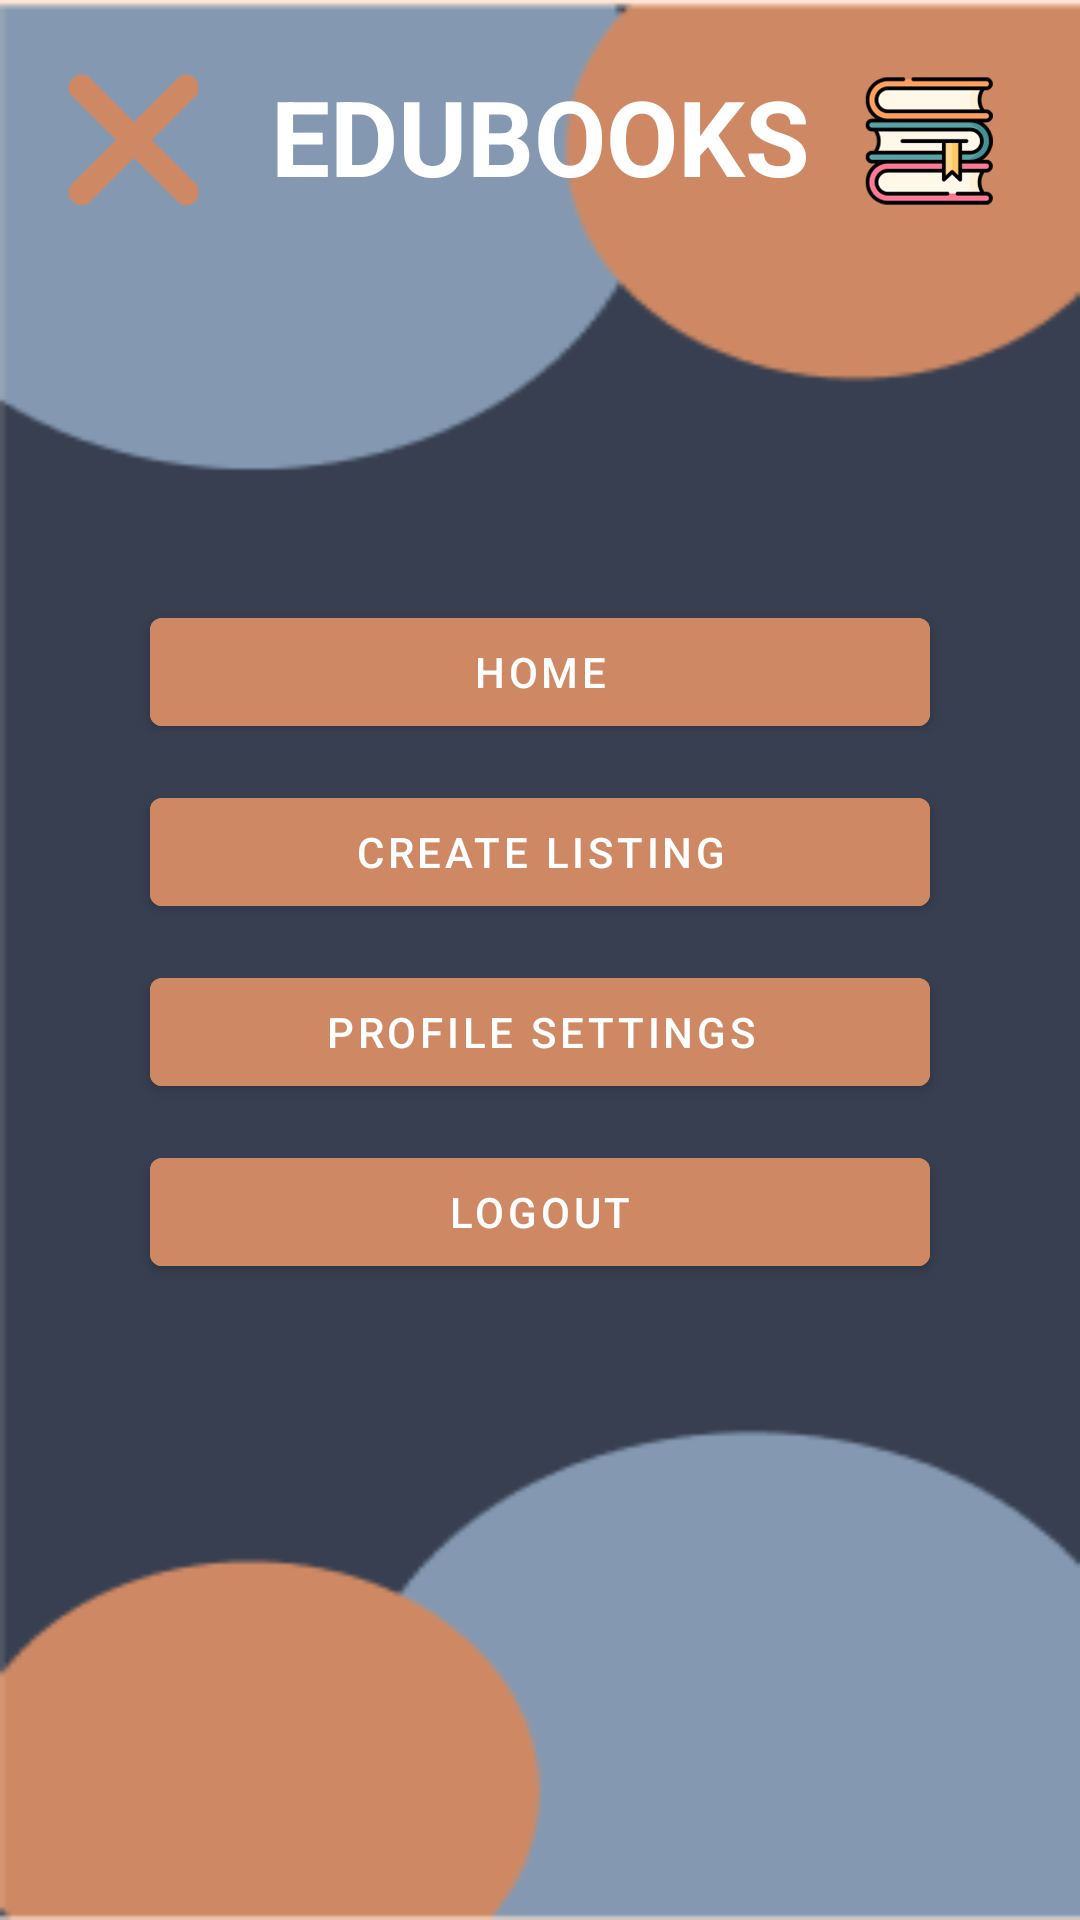

Screen size 1080px x 1920px. Icon name, then its center in pixels as (x=x, y=y):
menux: (x=133, y=139)
